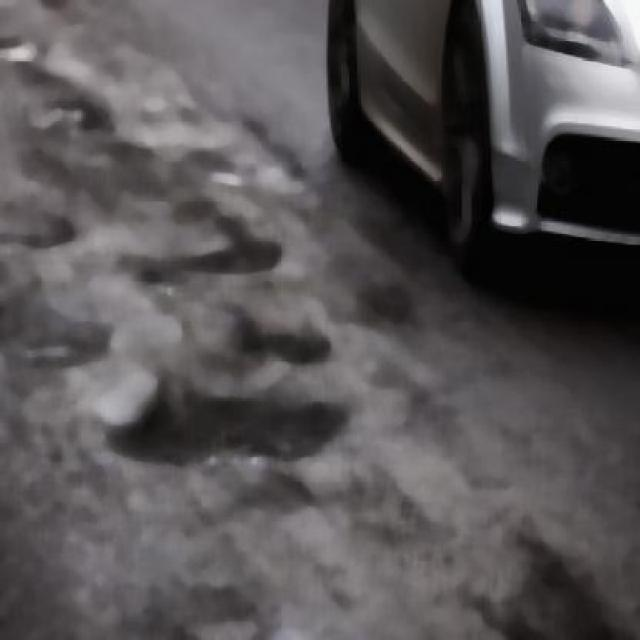Pothole: (154, 390, 335, 492), (127, 236, 301, 307), (0, 277, 94, 388), (32, 75, 99, 151)
